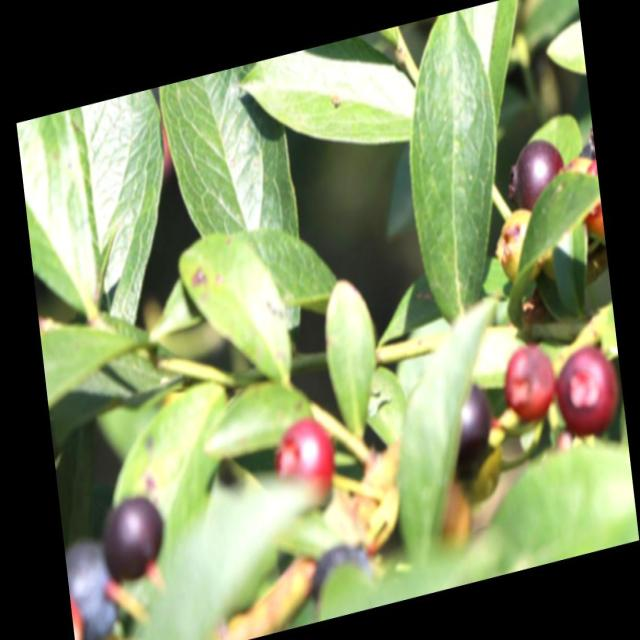blueberry: (101, 488, 171, 586), (500, 131, 566, 220), (444, 378, 494, 477)
blueberry-halfripe: (551, 328, 622, 440), (273, 412, 340, 507), (500, 336, 560, 426)
blueberry-unripe: (489, 196, 546, 289)
